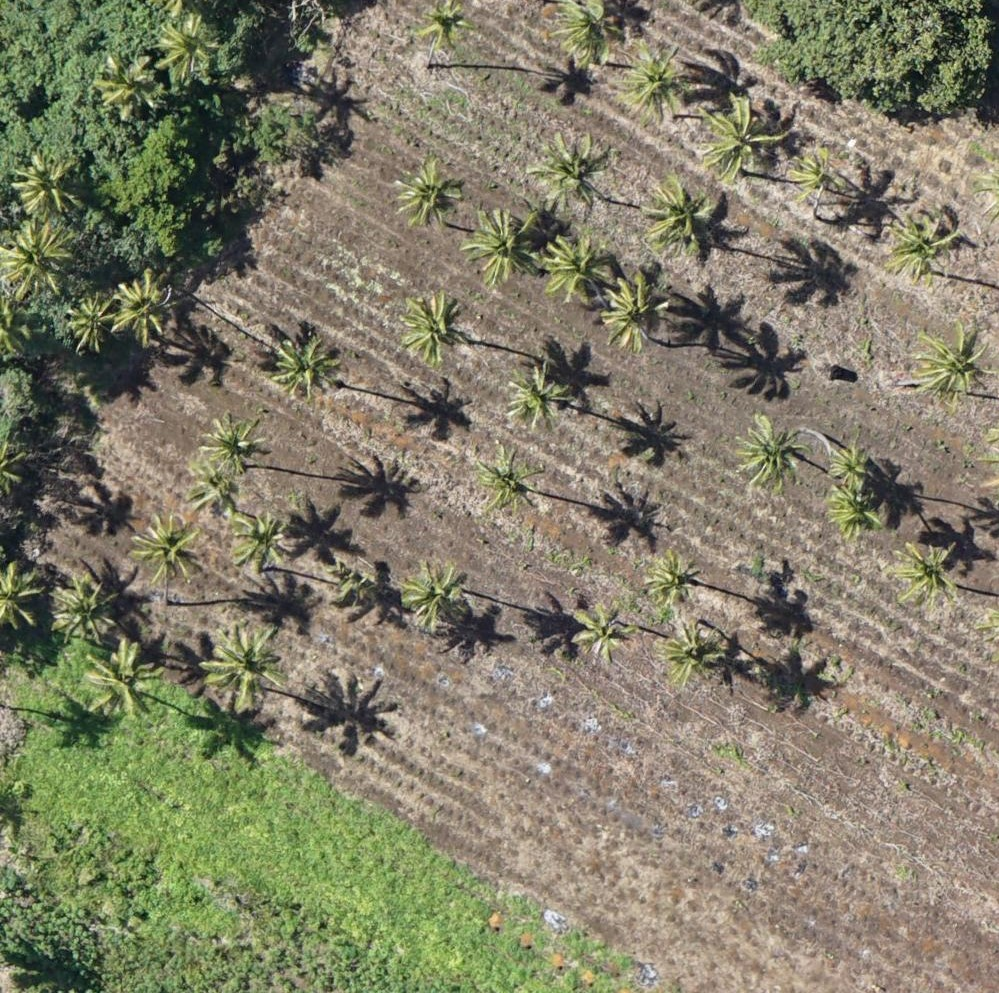Palm: (202, 622, 290, 711), (78, 644, 157, 722), (463, 208, 541, 284), (622, 38, 690, 122), (708, 95, 776, 178), (913, 329, 989, 403), (538, 132, 607, 210), (131, 517, 205, 588), (738, 414, 808, 488), (601, 273, 669, 348), (1, 221, 68, 297), (397, 290, 467, 361), (272, 332, 343, 402), (543, 231, 613, 302), (50, 574, 120, 644), (890, 537, 958, 606), (403, 558, 466, 628), (551, 2, 616, 68), (505, 366, 570, 430), (155, 13, 216, 81), (894, 214, 954, 282), (200, 414, 267, 473), (12, 156, 77, 216), (661, 621, 720, 686), (113, 277, 172, 342), (397, 166, 462, 225), (568, 599, 631, 659), (477, 448, 536, 512), (644, 185, 700, 250), (230, 512, 289, 570), (97, 54, 156, 112), (643, 553, 702, 608), (789, 145, 836, 206), (418, 1, 473, 52), (187, 461, 238, 514), (829, 485, 883, 534), (66, 300, 113, 349), (830, 441, 874, 486)
